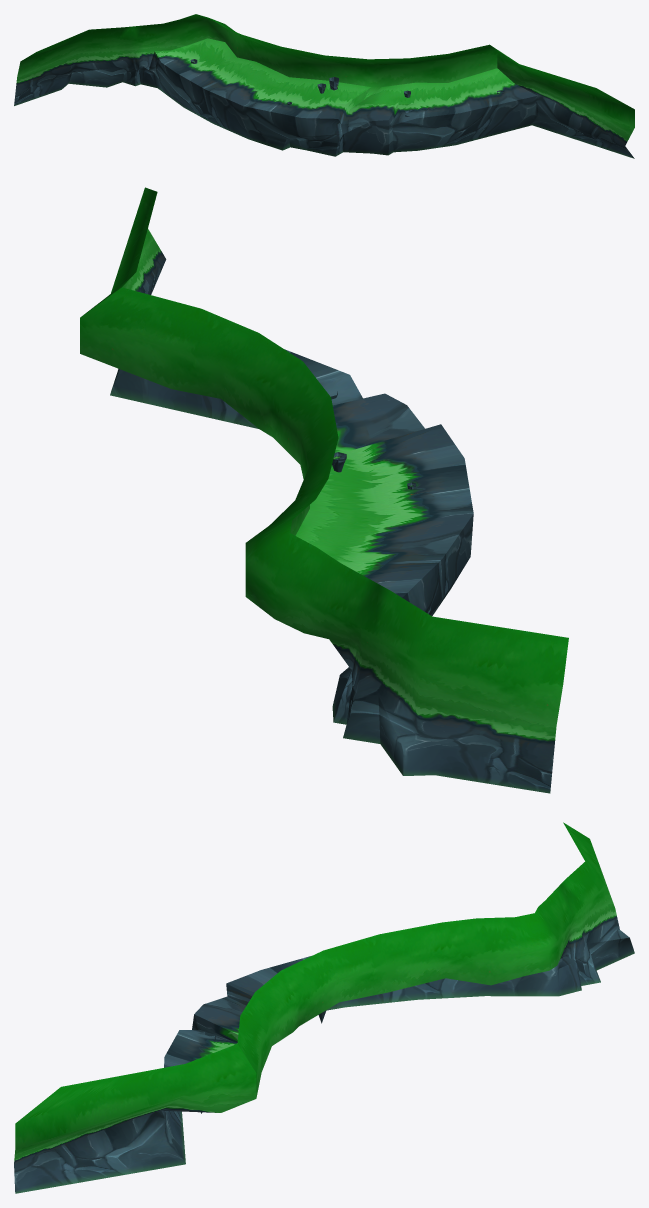
File: rc_01_bud_08.FBX
3 views of the same model, one above another, from view 1: azimuth 30°, elevation 25°; view 2: azimuth 150°, elevation 25°; view 3: azimuth 270°, elevation 25° (orthographic). The views are drawn at different scales.
Parts seen in each view (by area): view 1: 对象021, Cylinder023; view 2: 对象021; view 3: 对象021.
Boxes of the visible parts, x1,y1,x2,y2 form: 对象021: (14, 14, 634, 158); Cylinder023: (190, 59, 504, 116); 对象021: (80, 187, 568, 793); 对象021: (14, 822, 634, 1193).
Bounding box in the file's own units: 24560 × 22630 × 4173.
